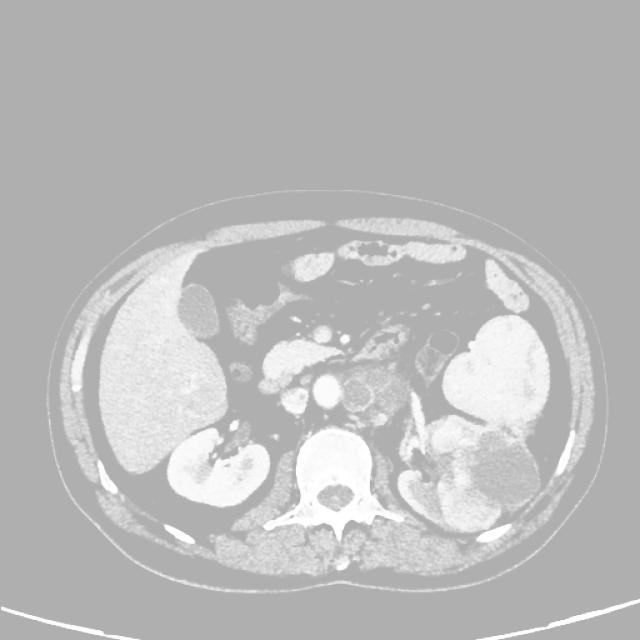TUMOR: (88, 257, 554, 460)
